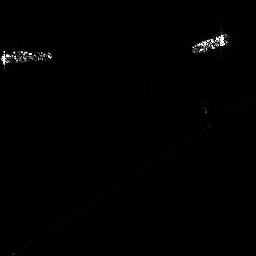ship: (1, 47, 52, 67), (190, 32, 229, 54)
